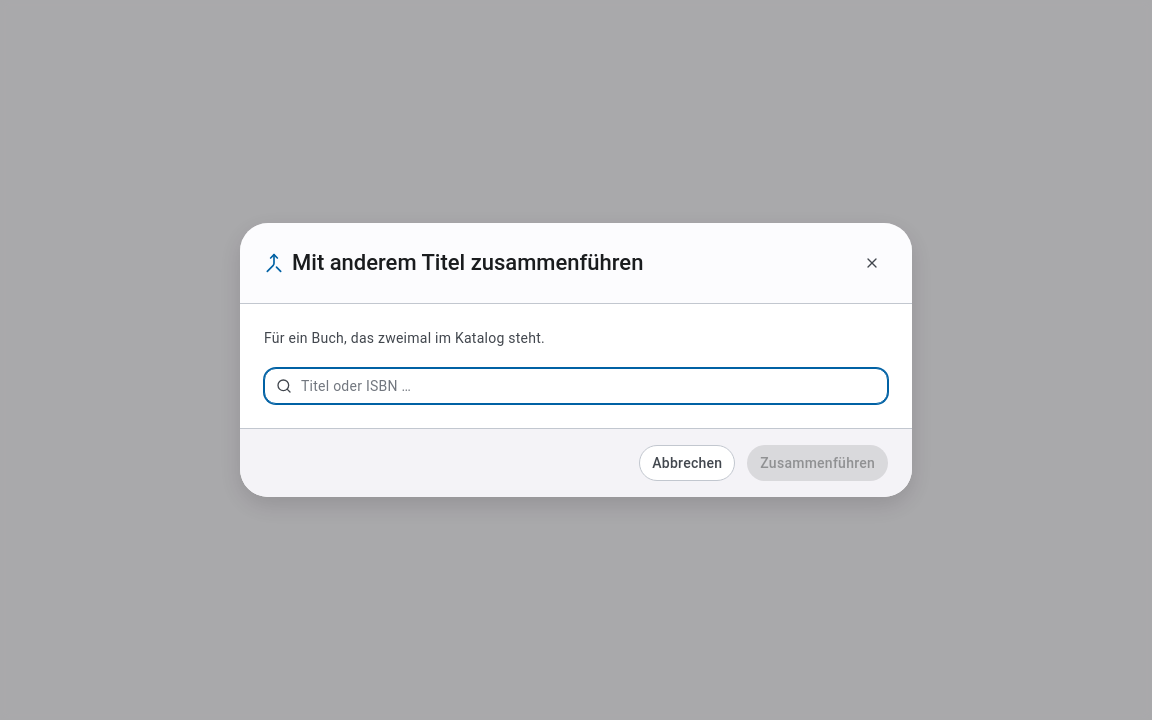
TitelZusammenfuehrenDialog › zeigt die Ablehnung des Servers und lässt „Zusammenführen" gesperrt
The image size is (1152, 720).
Type "Natur" into the search field named "Anderen Titel suchen" at (576, 386), box [264,368,888,404]
Wait 250 ms
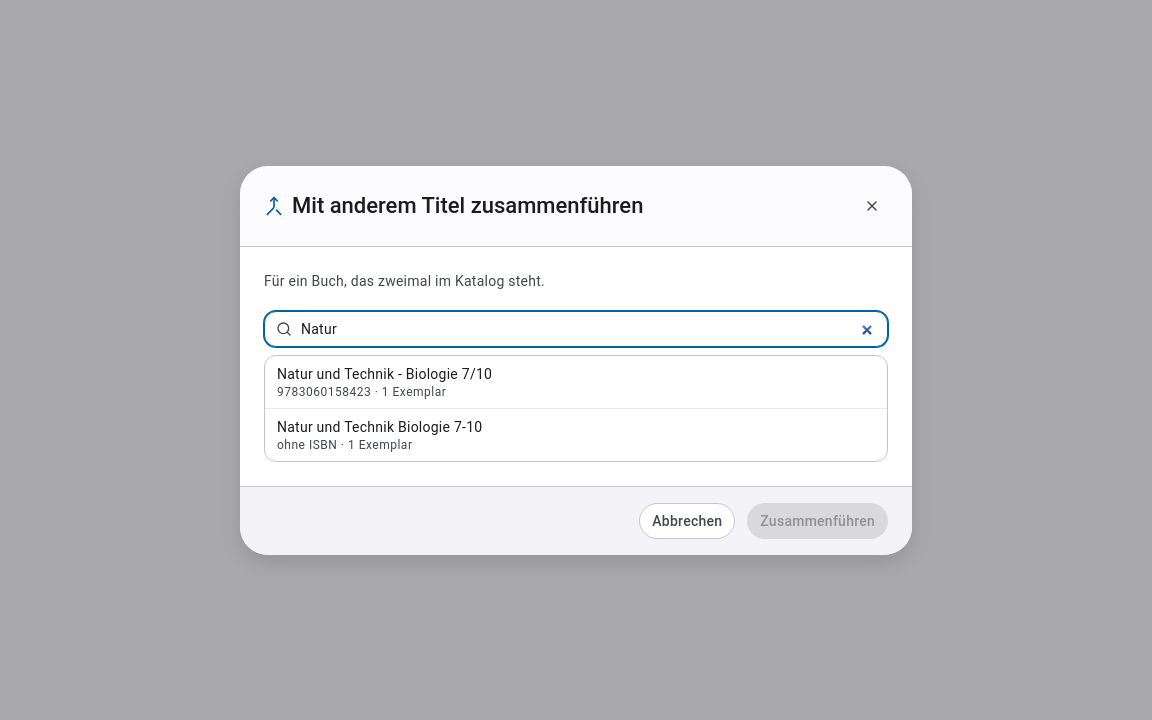
Expected: the button "Zusammenführen" is disabled, [747,502,888,538]
Click the button "Natur und Technik - Biologie 7/10 9783060158423 · 1 Exemplar" at (385, 374), box [265,356,887,408]
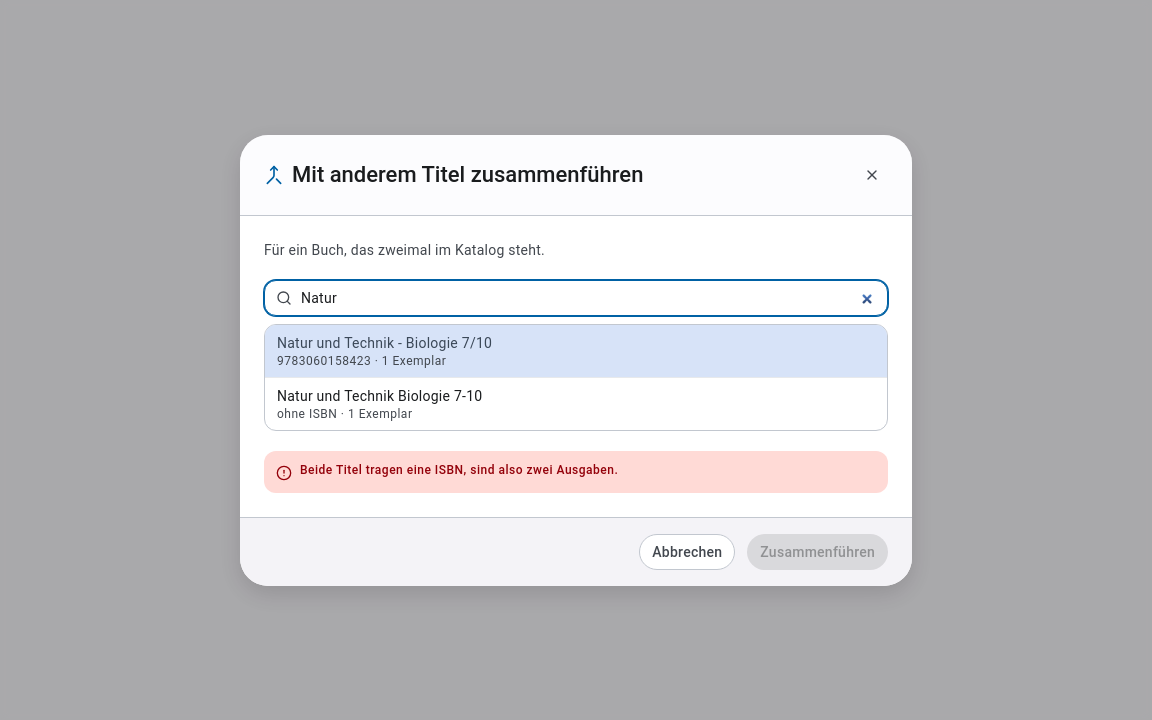
Expected: the button "Zusammenführen" is disabled, [747,534,888,570]
Expected: the message shows "Beide Titel tragen eine ISBN", [300,462,618,476]
